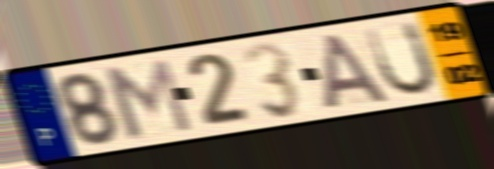2: (186, 51, 255, 130)
3: (242, 39, 304, 121)
8: (56, 70, 125, 149)
A: (323, 31, 393, 111)
M: (98, 56, 197, 141)
U: (362, 18, 439, 99)
